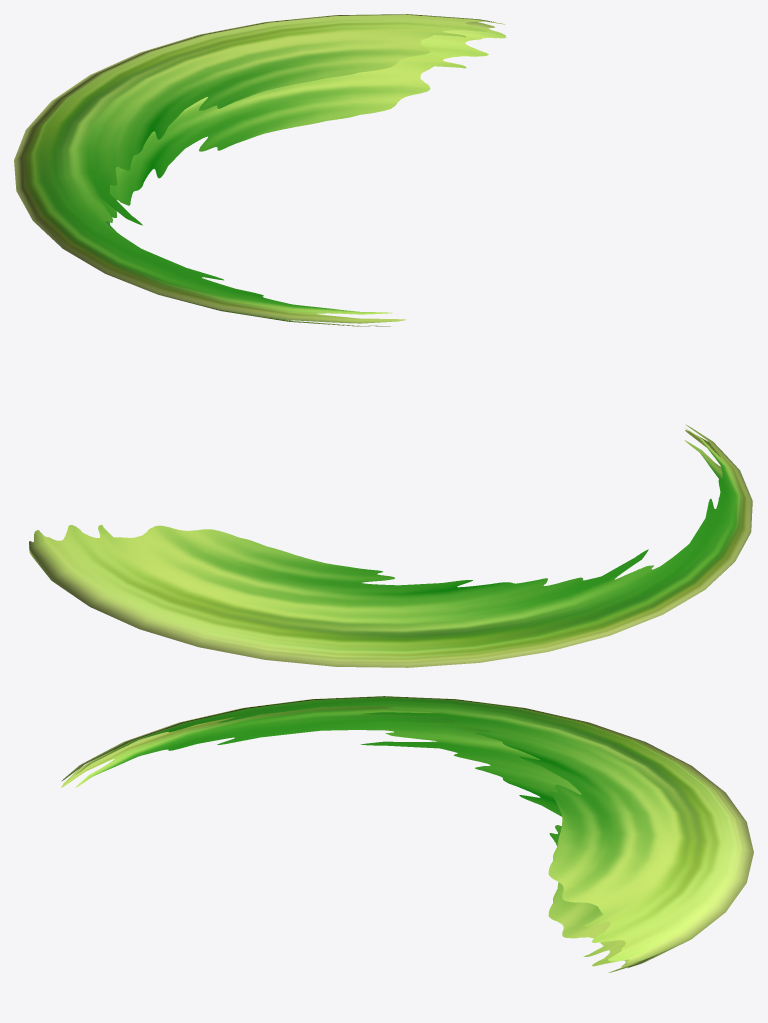
File: BladeStorm2.fbx
3 views of the same model, one above another, from view 1: azimuth 30°, elevation 25°; view 2: azimuth 150°, elevation 25°; view 3: azimuth 270°, elevation 25° (orthographic).
Visible parts, largest first — view 1: pCylinder3; view 2: pCylinder3; view 3: pCylinder3.
Part boxes in pixels (x1=…): pCylinder3: x1=14, y1=14, x2=506, y2=326; pCylinder3: x1=29, y1=424, x2=752, y2=667; pCylinder3: x1=61, y1=696, x2=753, y2=972.
Bounding box in the file's own units: 3.69 × 0.2558 × 3.69.
1 material, 1 textured.
